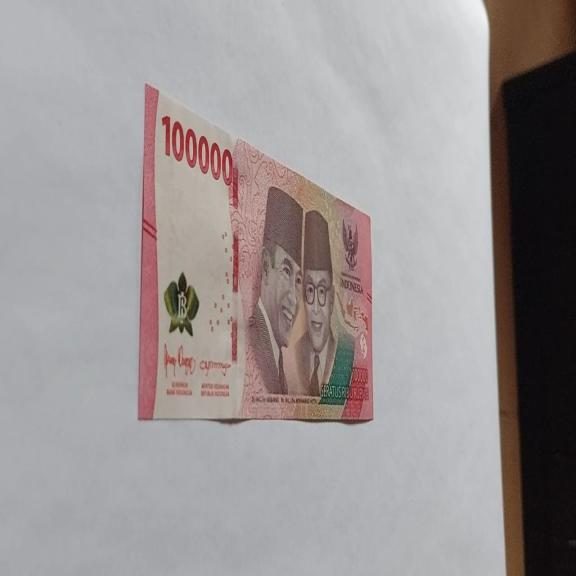Kertas: (138, 81, 374, 425), (160, 113, 234, 187)
